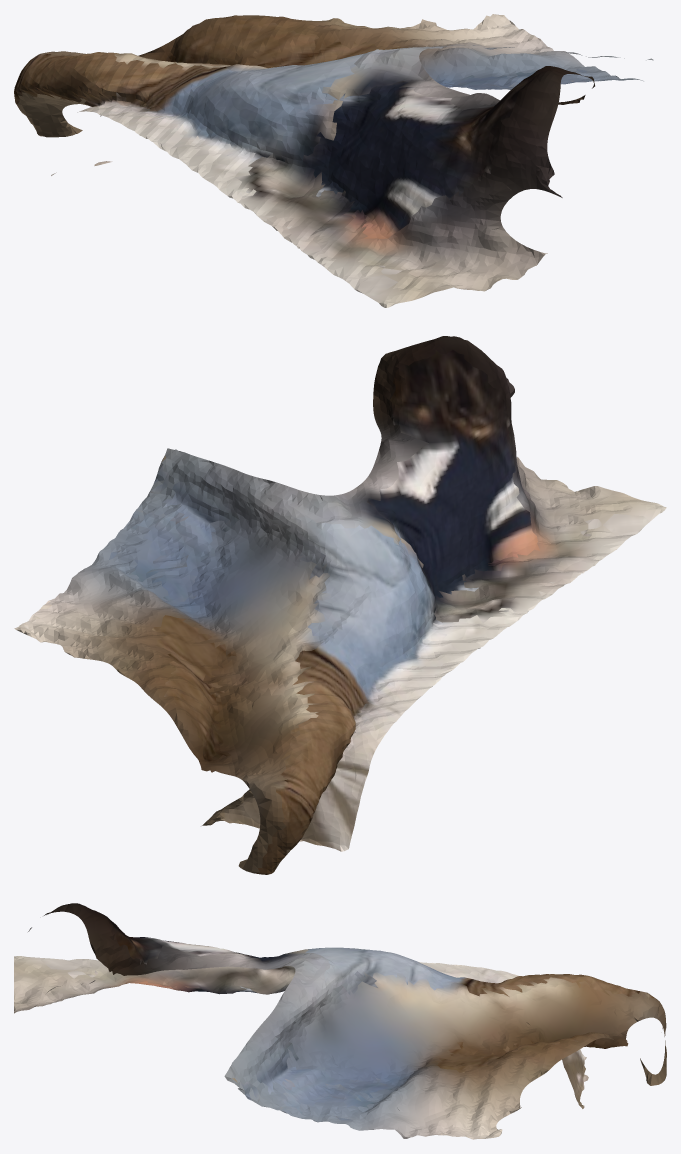
The picture shows the model from 3 angles, top to bottom: view 1: azimuth 30°, elevation 25°; view 2: azimuth 150°, elevation 25°; view 3: azimuth 270°, elevation 25°; orthographic projection. The views are drawn at different scales.
Bounding box in the file's own units: 0.9207 × 0.5993 × 1.53.
1 material, 1 textured.
